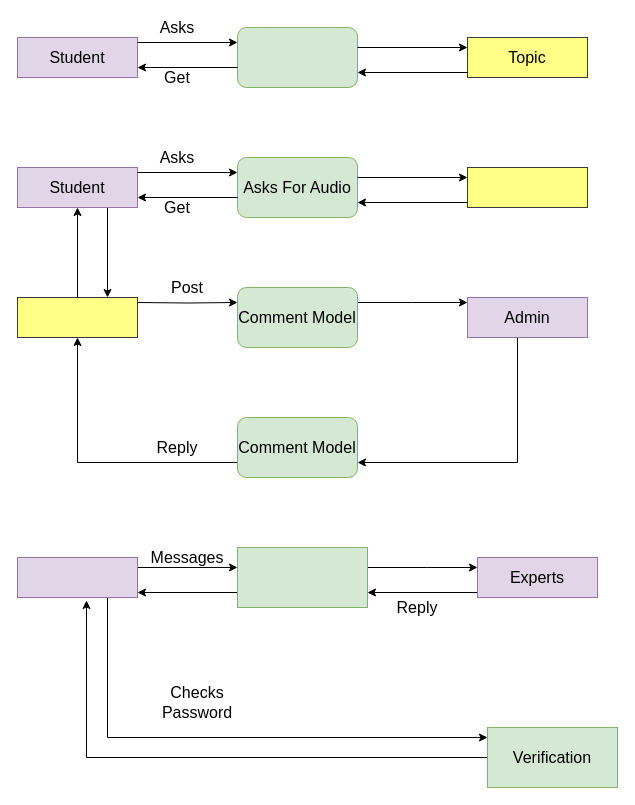
This 635x805 diagram has some shape labels left out. Each missing label, with the box of its shape:
Asks For Video: (236, 26, 358, 88)
Comment: (16, 296, 138, 338)
Course: (466, 166, 588, 208)
QA Model: (236, 546, 368, 608)
User: (16, 556, 138, 598)
